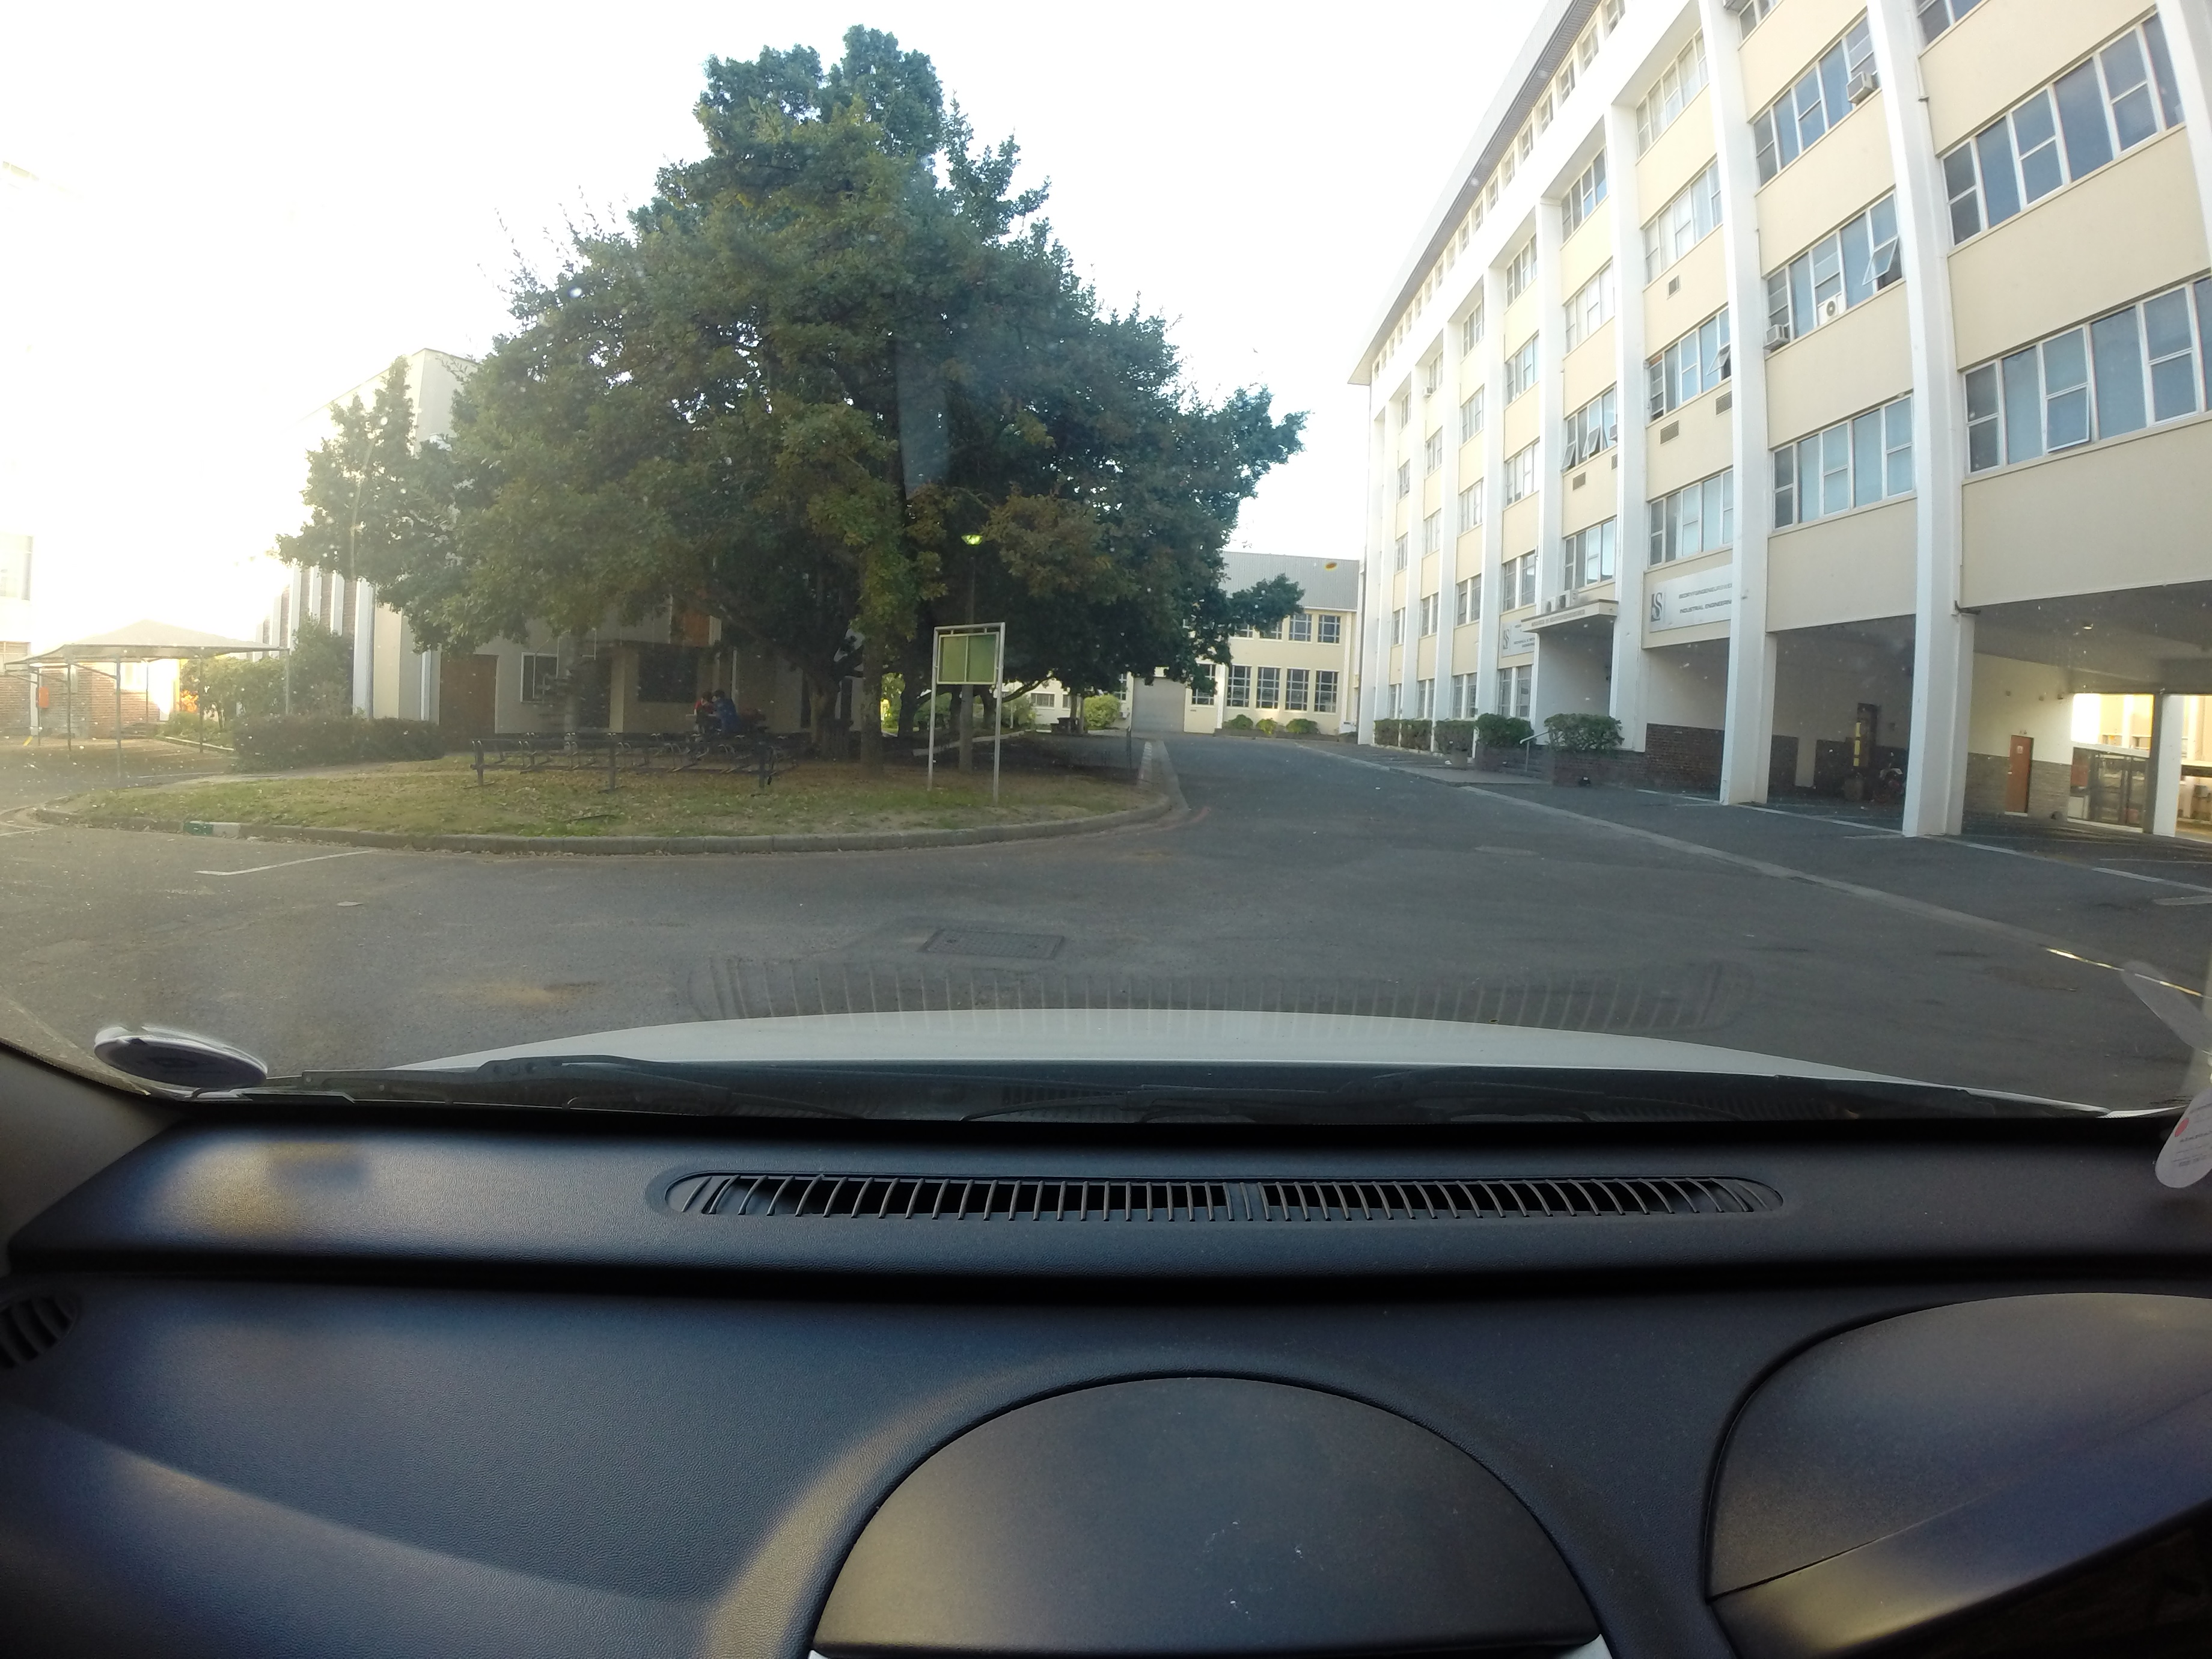pothole: (549, 978, 617, 999)
